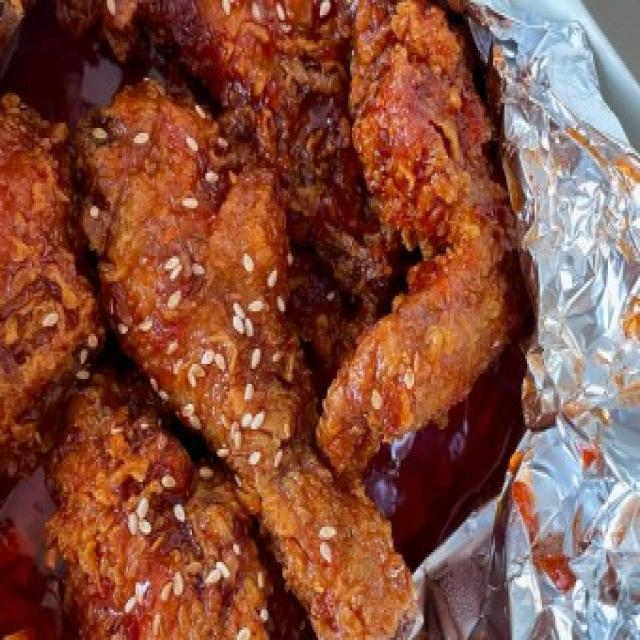Frango: (0, 0, 530, 640)
